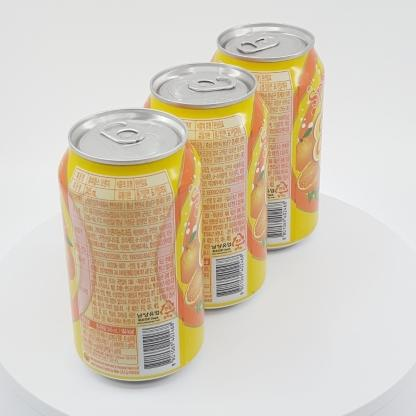----------345ML: (57, 107, 205, 381), (140, 62, 270, 309), (208, 22, 326, 251)
